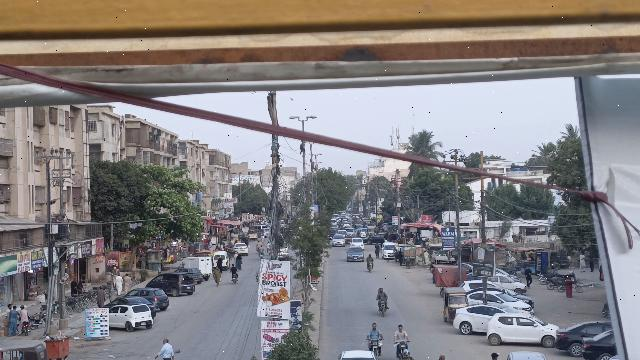Bike: (367, 338, 382, 358), (377, 298, 390, 318), (393, 340, 409, 354), (229, 273, 239, 287), (366, 260, 375, 274)
Car: (485, 311, 560, 349), (554, 317, 609, 355), (451, 303, 510, 335), (145, 271, 197, 299), (109, 304, 155, 333), (576, 323, 613, 358)
Person: (154, 335, 178, 360), (366, 320, 384, 340), (9, 305, 20, 336), (94, 285, 108, 309), (210, 264, 224, 287), (393, 322, 409, 342), (376, 287, 389, 299), (229, 262, 240, 274), (366, 253, 375, 264)
Rickshaw: (438, 285, 470, 325)
Truck: (179, 255, 213, 280)
